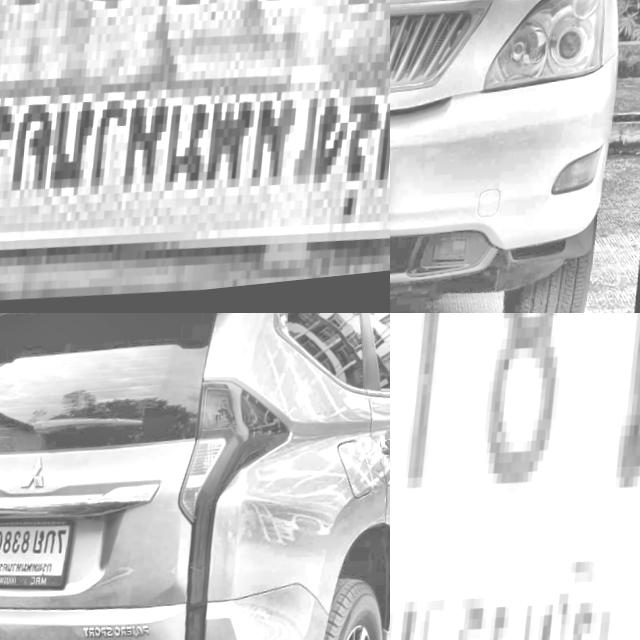license-plate: (0, 0, 390, 313), (390, 313, 640, 640), (0, 510, 80, 596)
